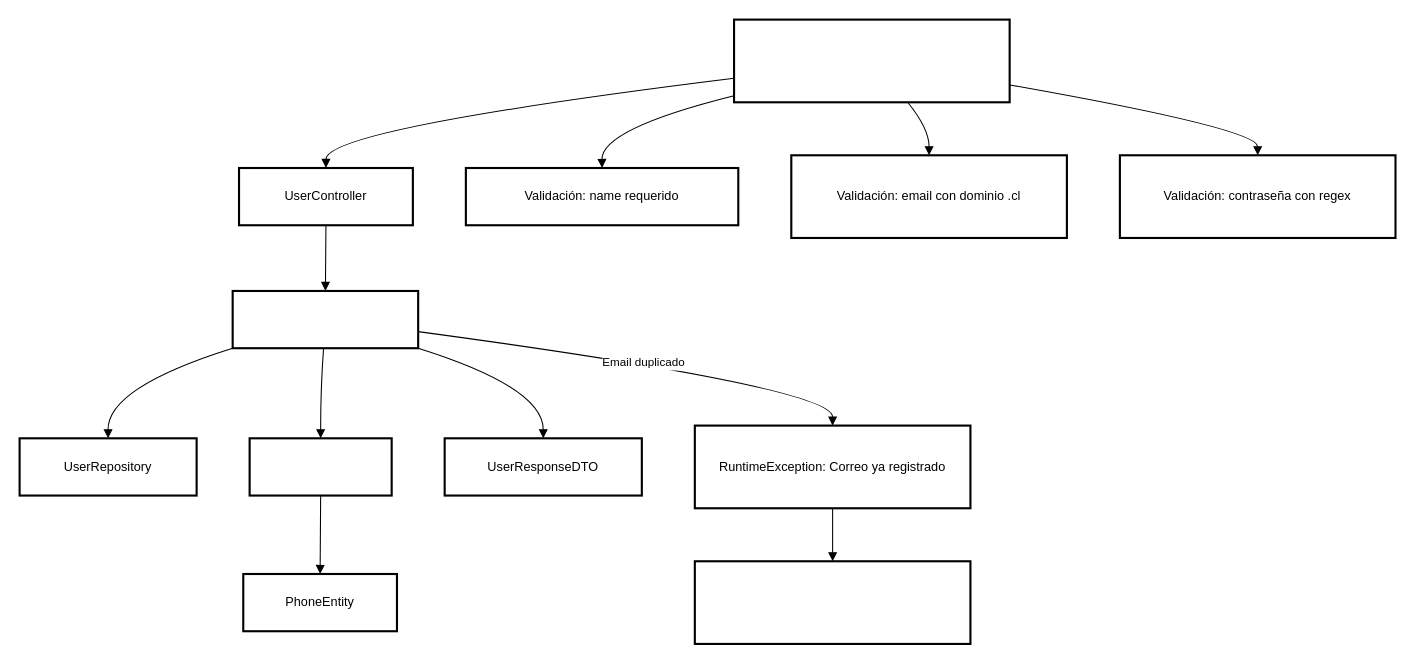
This 1414x662 diagram has some shape labels left out. Here are the shapes that lost their labels. From the top down, the box of each, then its label:
(732, 18, 1010, 103): Solicitud JSON: UserRequestDTO
(231, 289, 419, 349): UserServiceImpl
(248, 437, 392, 496): UserEntity
(693, 560, 971, 644): GlobalExceptionHandler: mensaje de error
